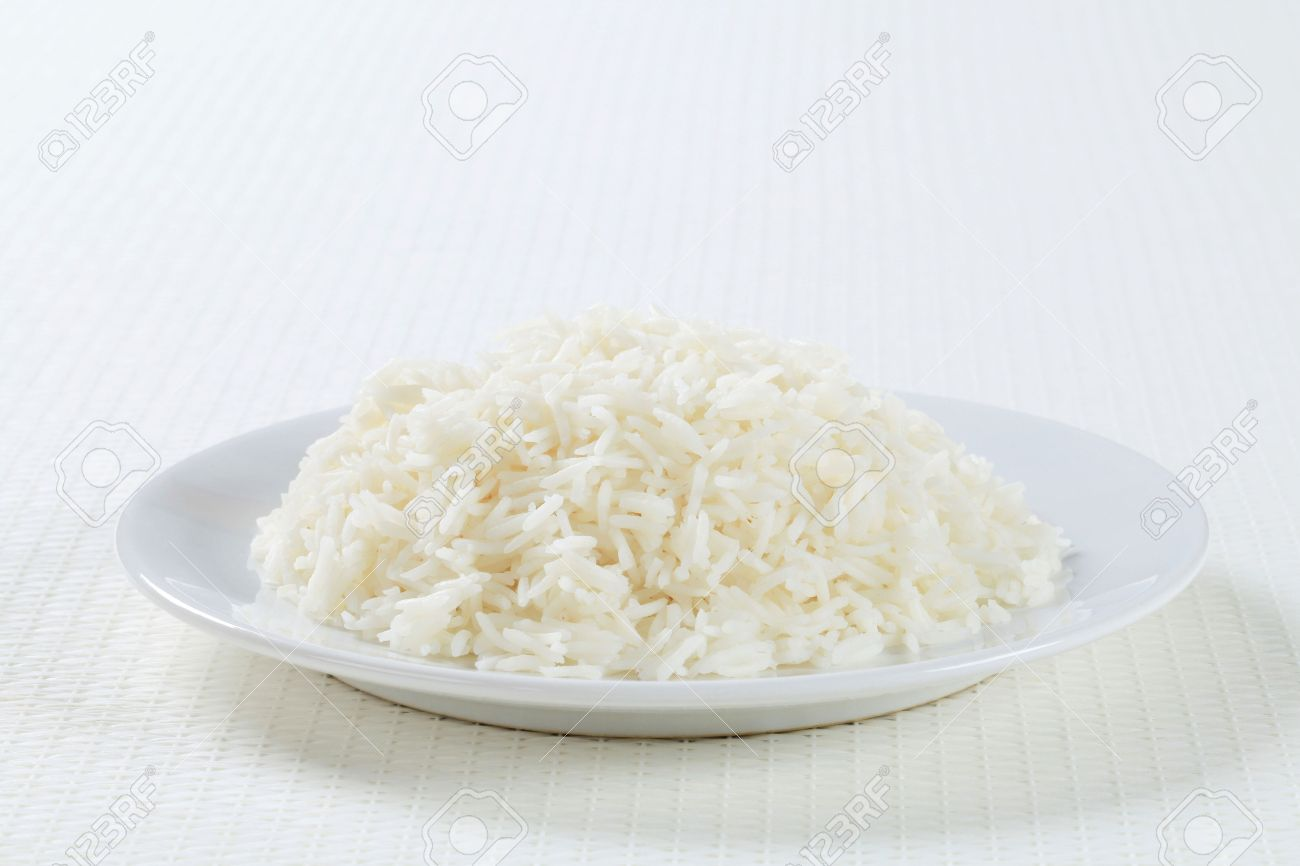rice: (239, 282, 1101, 688)
